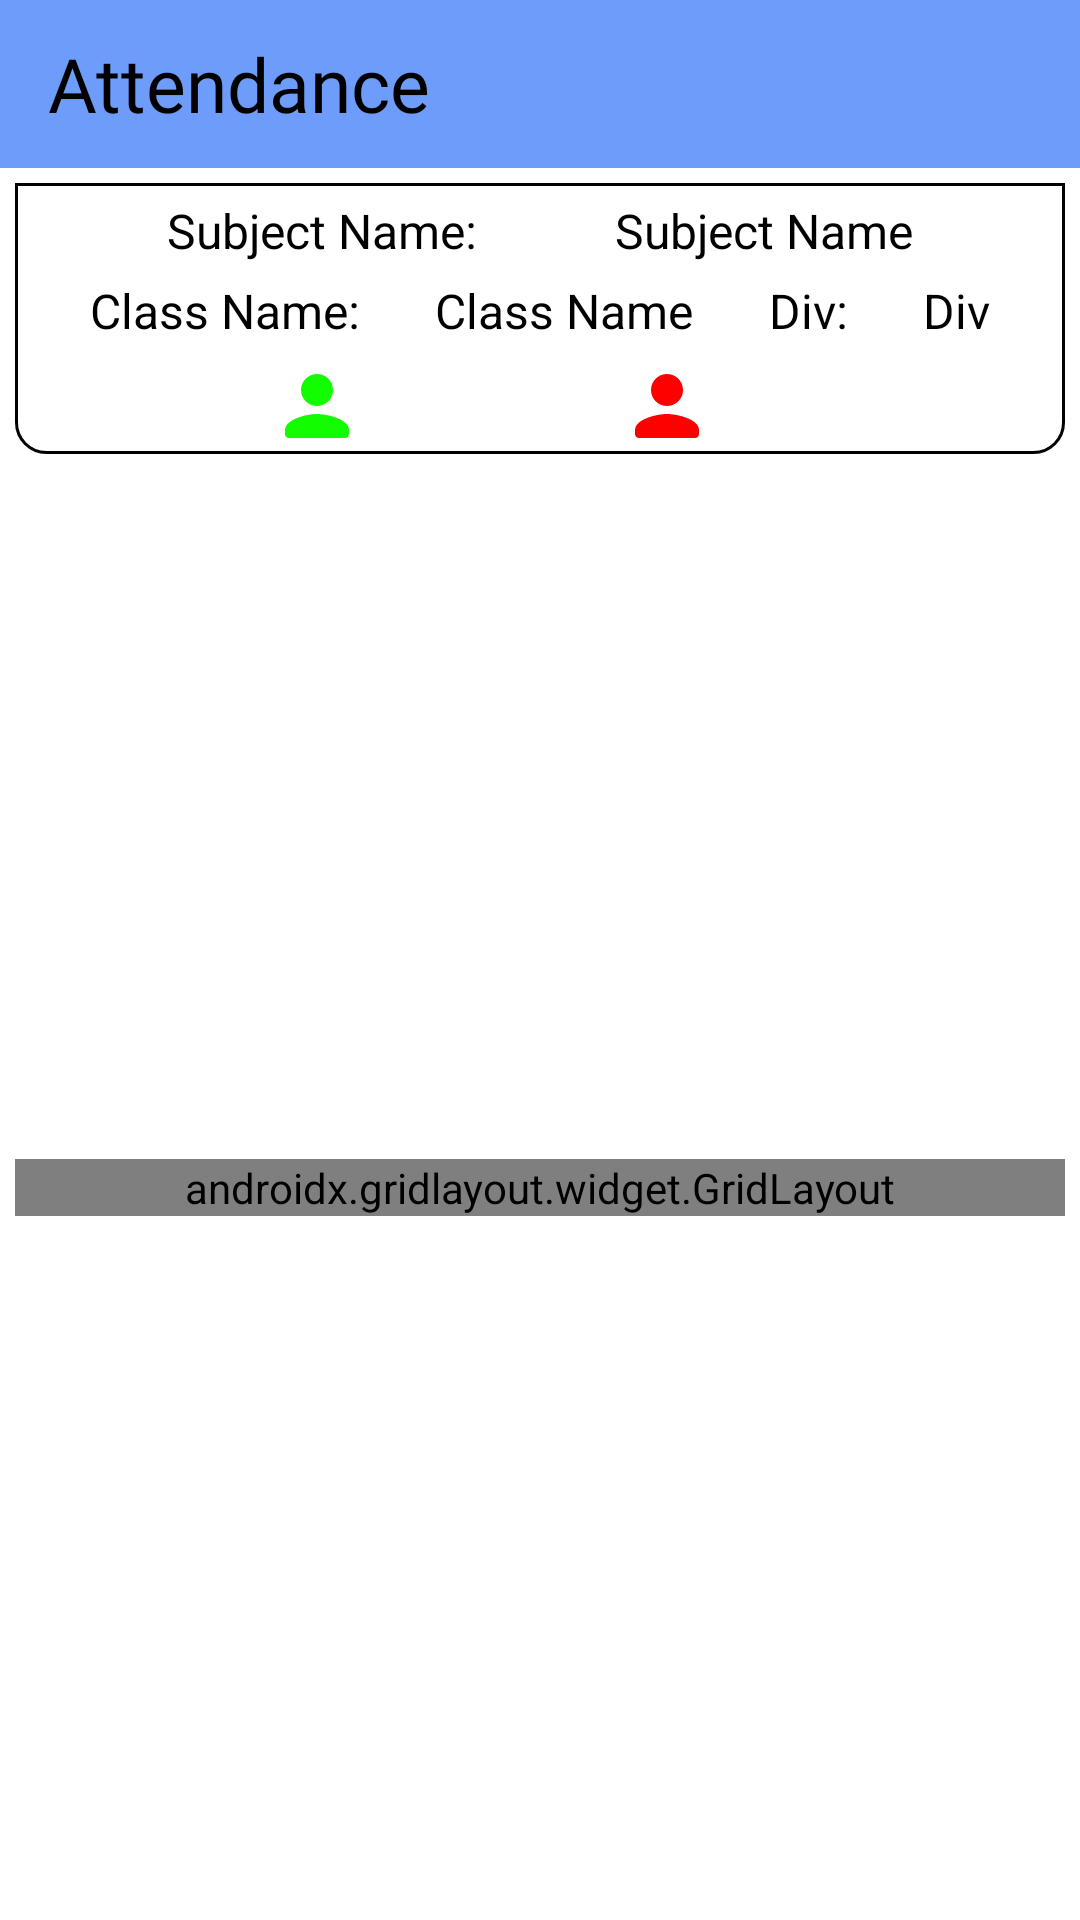

Icons on this 1080x1920 Android screen, each with its box as (left=x1, top=y1, right=x2, bottom=y2):
absent: (left=635, top=374, right=699, bottom=438)
present: (left=285, top=374, right=349, bottom=438)
